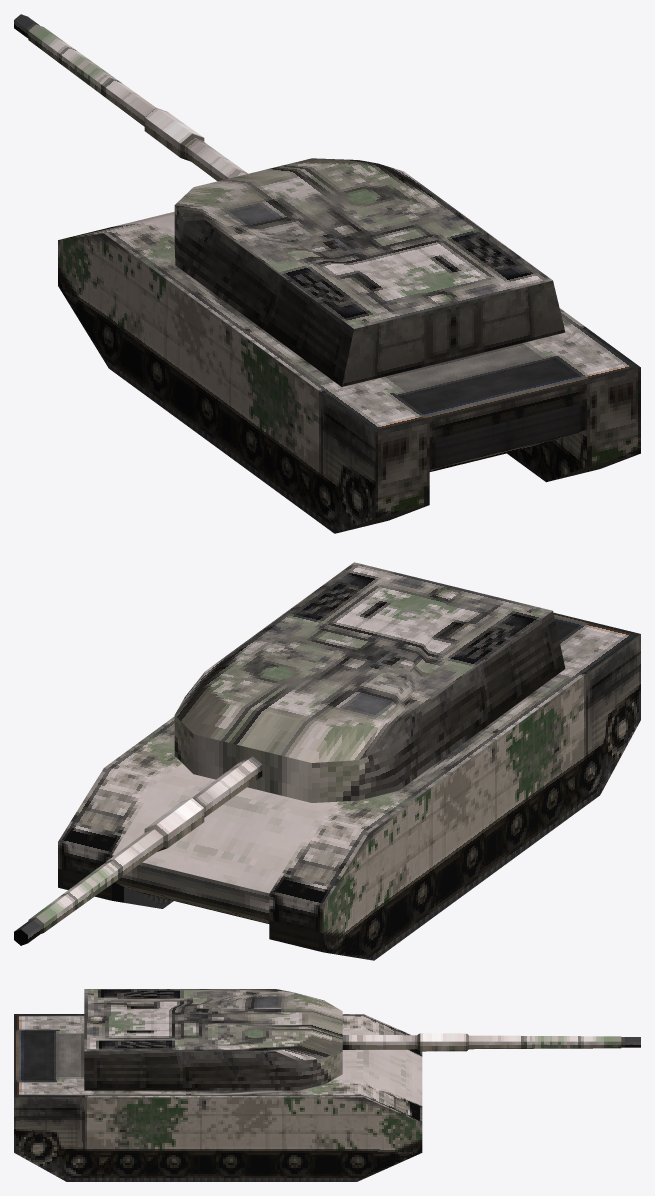
Rendered from ps1_tank_2.glb.
3 views of the same model, one above another, from view 1: azimuth 30°, elevation 25°; view 2: azimuth 150°, elevation 25°; view 3: azimuth 270°, elevation 25° (orthographic). The views are drawn at different scales.
Parts seen in each view (by area): view 1: Tank2; view 2: Tank2; view 3: Tank2.
Part boxes in pixels (left/top/right/bottom): Tank2: left=14, top=14, right=640, bottom=533; Tank2: left=14, top=562, right=640, bottom=960; Tank2: left=14, top=989, right=640, bottom=1181.
Size of the model in its own units: 3.83 by 2.57 by 12.17.
Materials: 1 (1 with a texture image).
